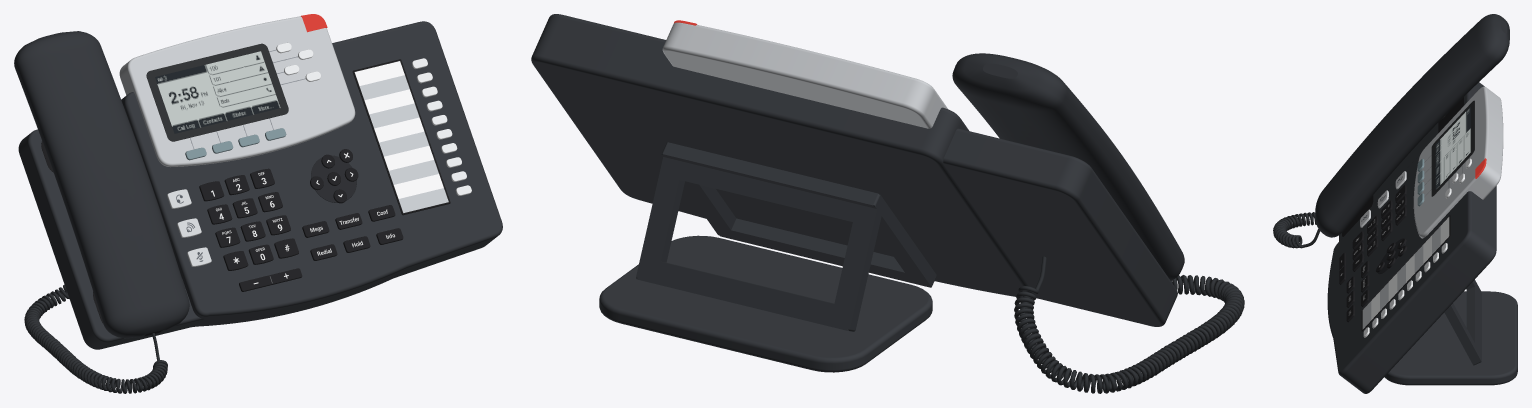
The picture shows the model from 3 angles, left to right: view 1: azimuth 30°, elevation 25°; view 2: azimuth 150°, elevation 25°; view 3: azimuth 270°, elevation 25°; orthographic projection. The views are drawn at different scales.
Visible parts, largest first — view 1: D50; view 2: D50; view 3: D50.
Part boxes in pixels (bbox=[...]): D50: bbox=[14, 14, 502, 393]; D50: bbox=[531, 14, 1244, 393]; D50: bbox=[1273, 14, 1517, 393].
Bounding box in the file's own units: 0.2902 × 0.165 × 0.1588.
20 materials, 2 textured.
